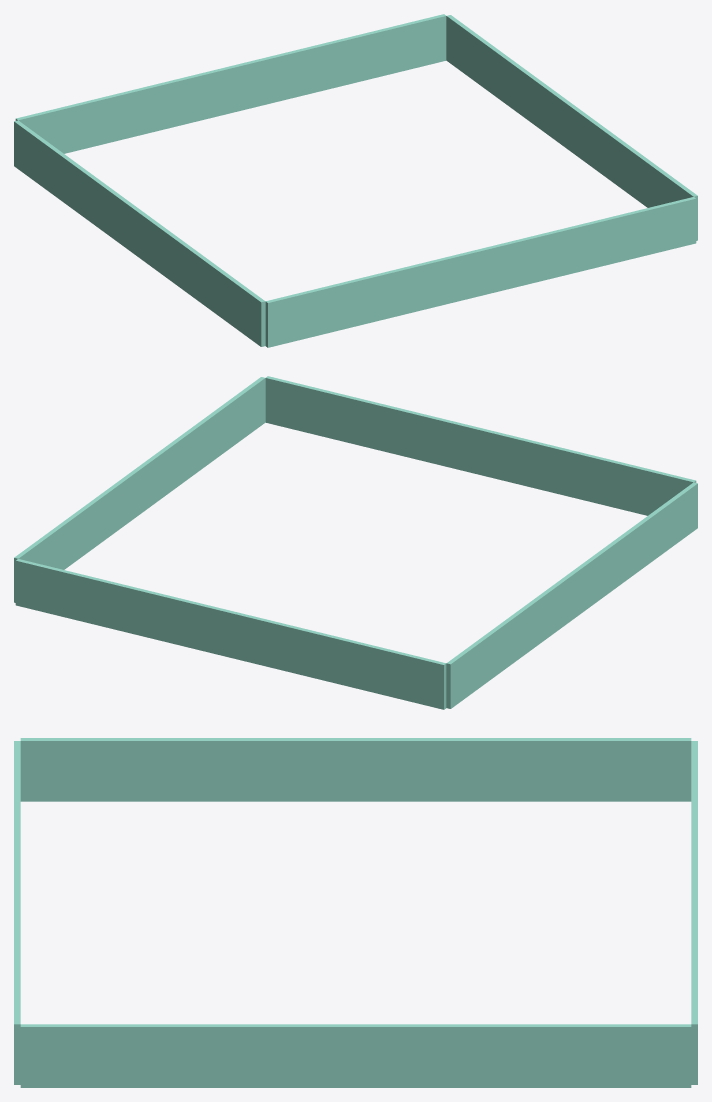
File: pet_play_yard_01_no_floor.dae
The picture shows the model from 3 angles, top to bottom: view 1: azimuth 30°, elevation 25°; view 2: azimuth 150°, elevation 25°; view 3: azimuth 270°, elevation 25°; orthographic projection. The views are drawn at different scales.
Visible parts, largest first — view 1: wall_back.003, wall_back.002, wall_back, wall_back.001; view 2: wall_back.002, wall_back.003, wall_back, wall_back.001; view 3: wall_back.001, wall_back, wall_back.003, wall_back.002.
Boxes of the visible parts, x1,y1,x2,y2 form: wall_back.003: (265, 197, 696, 347); wall_back.002: (15, 14, 446, 153); wall_back: (14, 120, 265, 346); wall_back.001: (446, 15, 697, 240); wall_back.002: (15, 559, 446, 709); wall_back.003: (265, 376, 696, 515); wall_back: (446, 482, 697, 708); wall_back.001: (14, 377, 265, 602); wall_back.001: (20, 1024, 691, 1087); wall_back: (20, 738, 691, 801); wall_back.003: (14, 741, 20, 1084); wall_back.002: (691, 741, 697, 1084).
Bounding box in the file's own units: 2.04 × 2.04 × 0.2.
